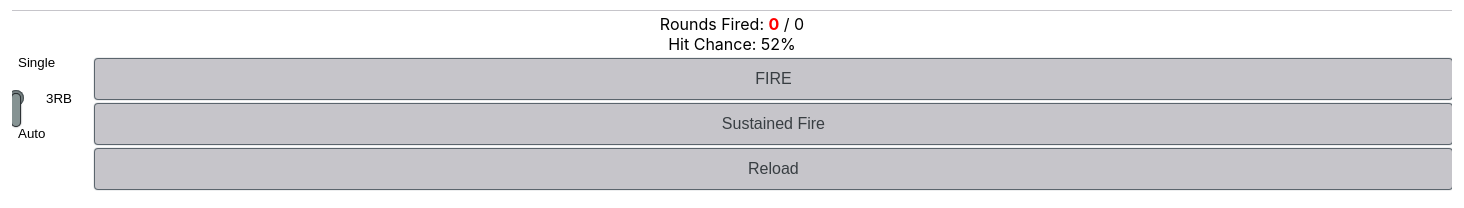
it: Ammo Used Tally › should reset sab and aims reload button clicked
Click the button "Sustained Fire". click: x=773, y=124
box: 95,104 -> 1452,144
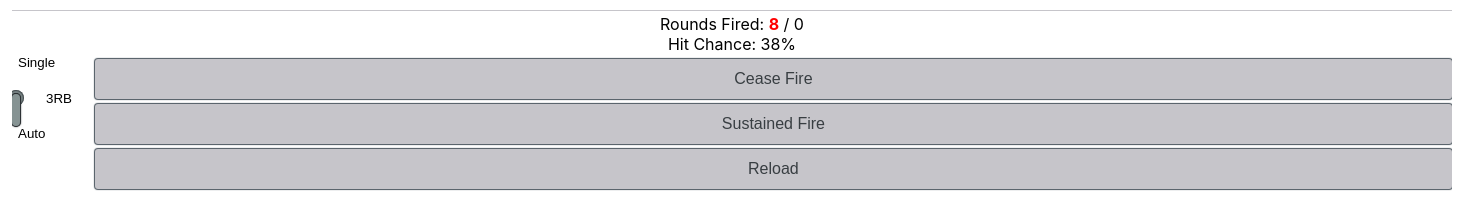
Click the button "Sustained Fire". click: x=773, y=124
box: 95,104 -> 1452,144
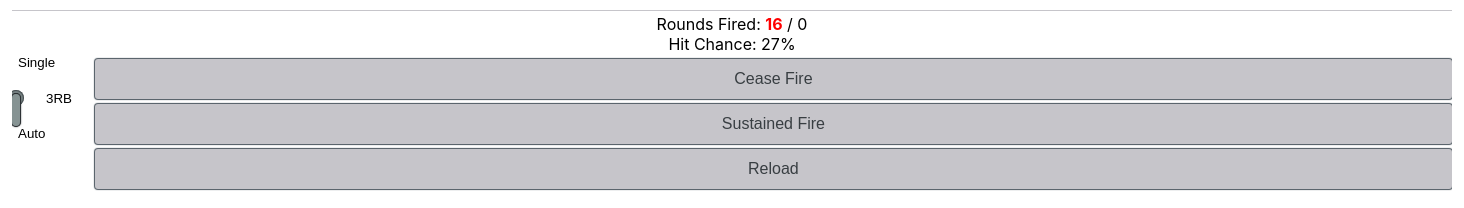
Click the button "Reload". click: x=773, y=169
box: 95,149 -> 1452,189
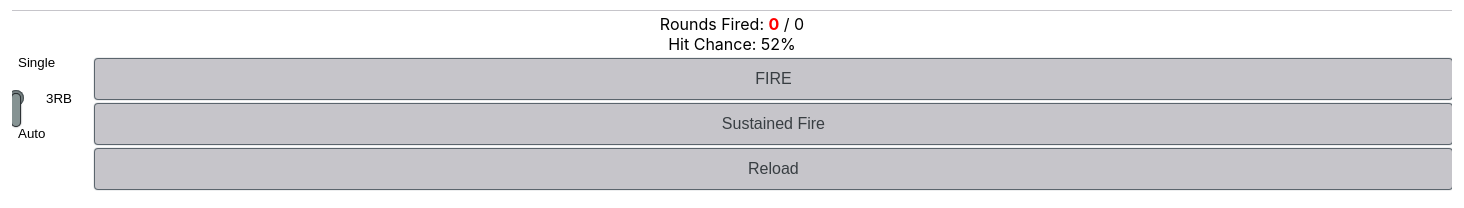
Now the text "Hit Chance: 52%" is shown, box 668,34 -> 796,54
